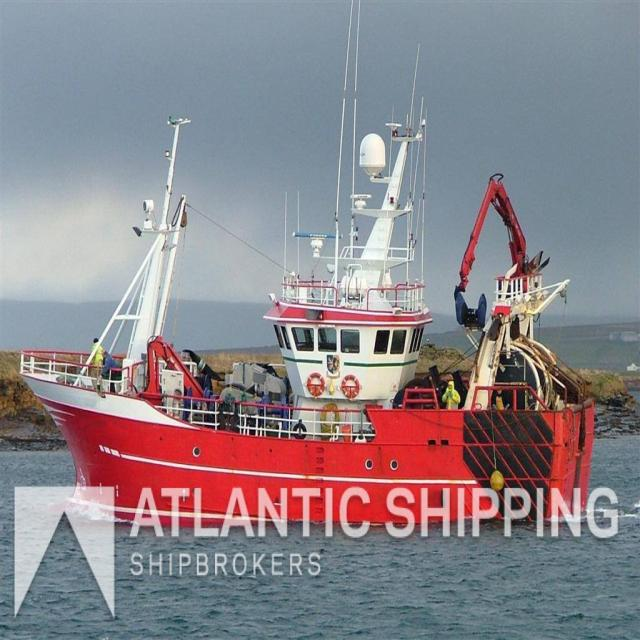boat: (13, 67, 613, 574)
